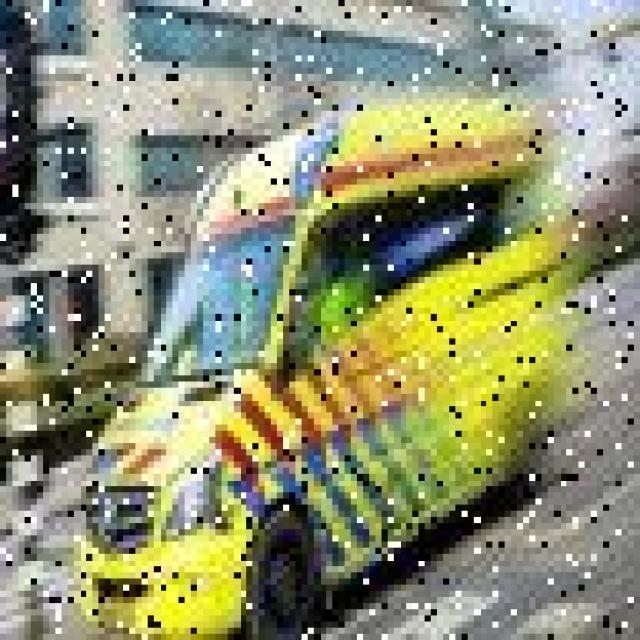emergency-vehicle: (80, 101, 572, 637)
